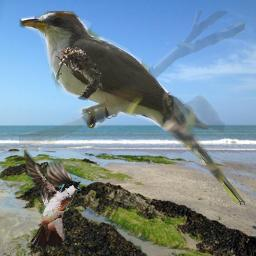Cuckoo: (19, 11, 245, 205)
Swallow: (20, 145, 82, 248)
